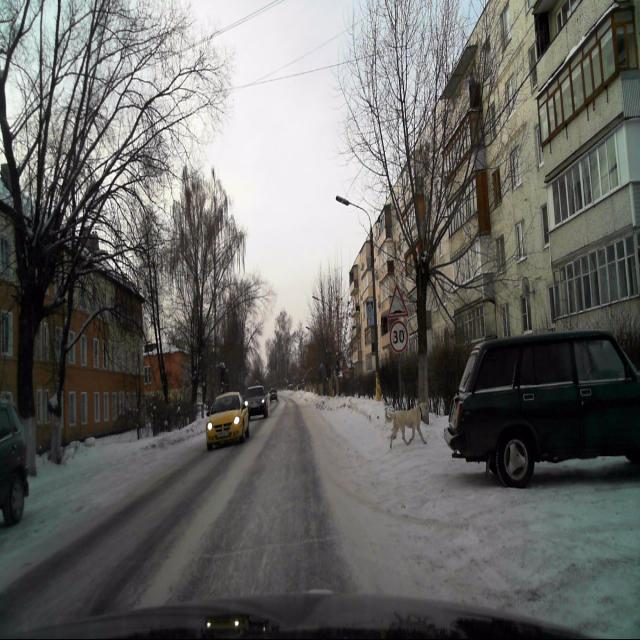road sign: (387, 284, 408, 317)
